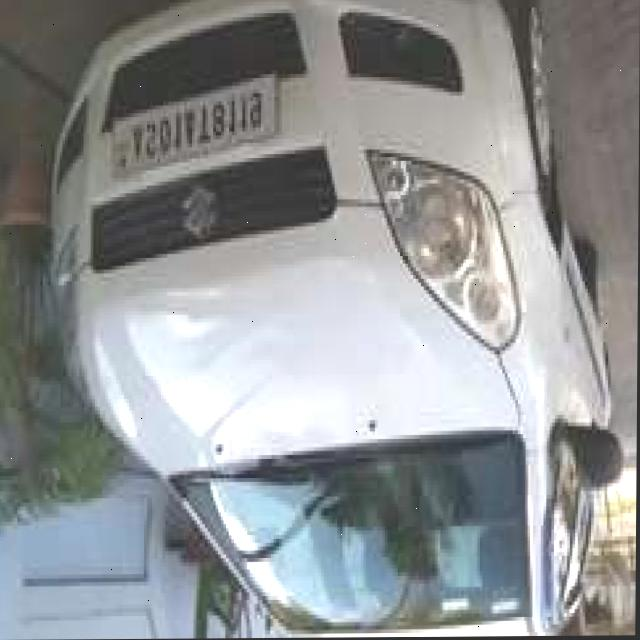plate: (107, 62, 282, 183)
